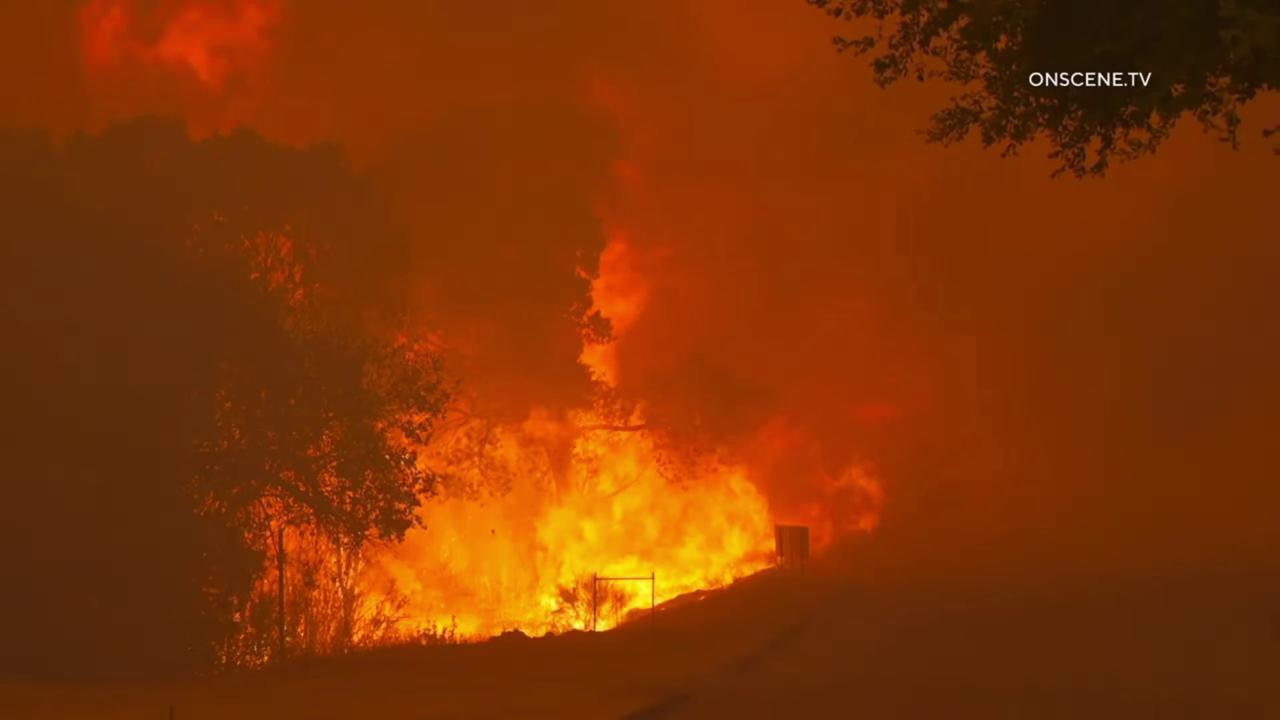fire: (197, 235, 901, 671)
smoke: (0, 0, 1280, 720)
